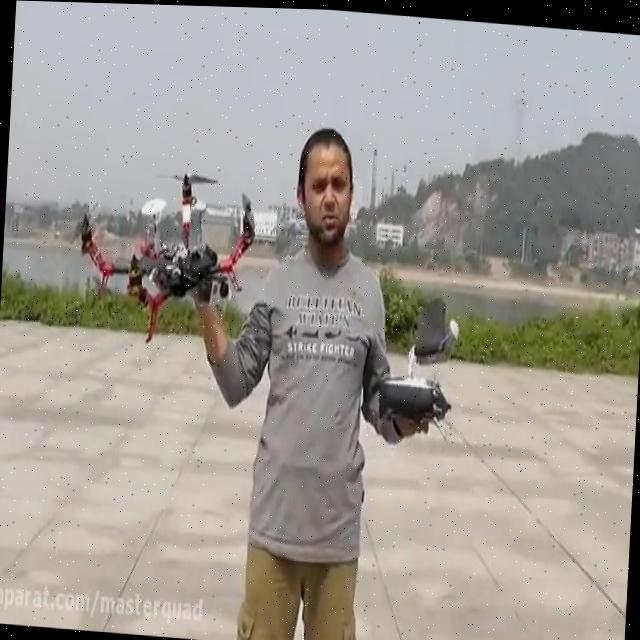drone: (64, 155, 262, 353)
